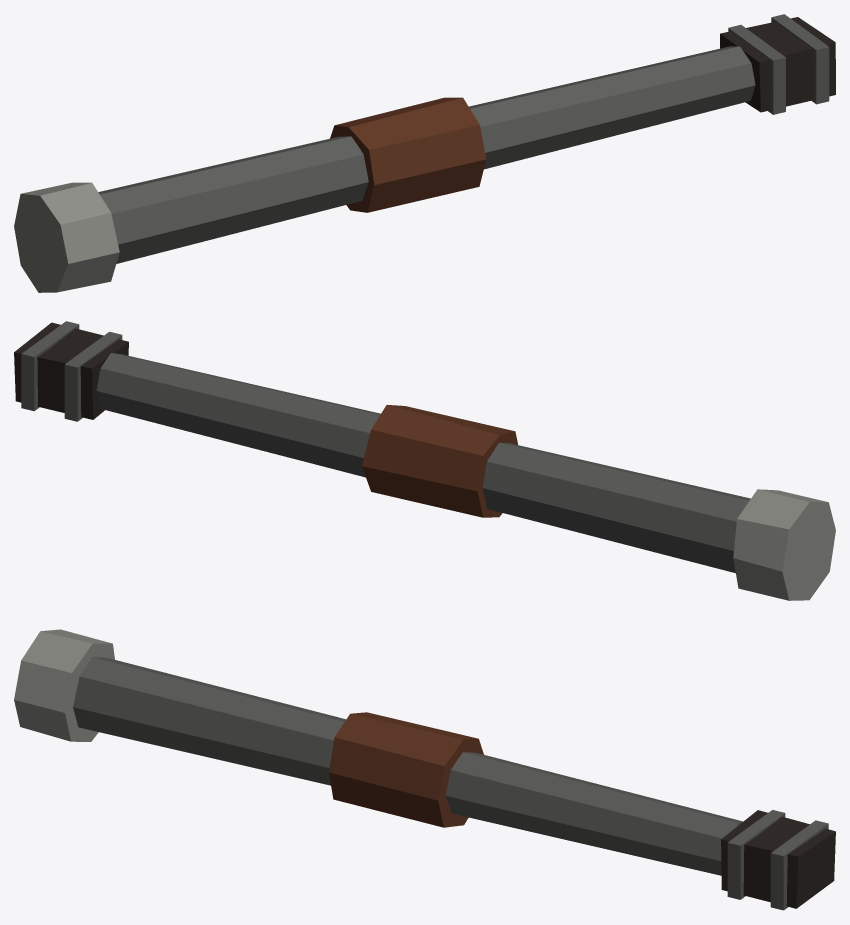
File: wbar_cannon.glb
3 views of the same model, one above another, from view 1: azimuth 30°, elevation 25°; view 2: azimuth 150°, elevation 25°; view 3: azimuth 330°, elevation 25° (orthographic).
Parts seen in each view (by area): view 1: wbar_cannon; view 2: wbar_cannon; view 3: wbar_cannon.
Part boxes in pixels (box(x1,y1,x2,y2)): wbar_cannon: box(14, 14, 835, 292); wbar_cannon: box(14, 321, 835, 600); wbar_cannon: box(14, 629, 835, 910).
Size of the model in its own units: 1.8 by 0.2197 by 0.2168.
